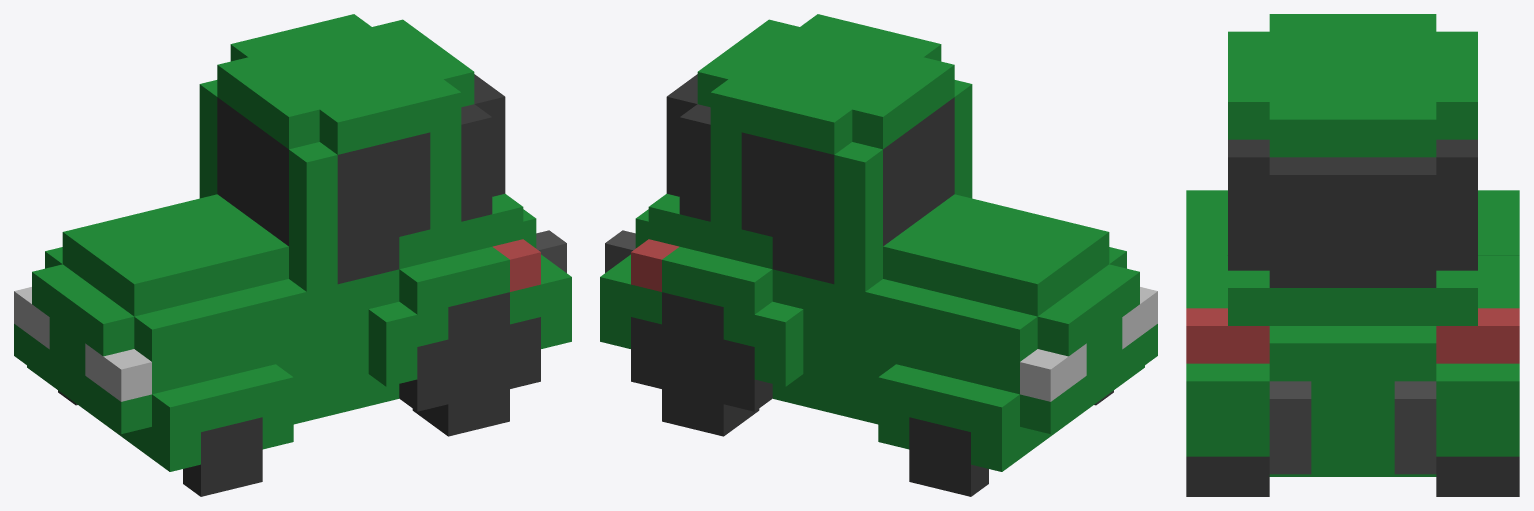
The model's file is tractor-green.gltf.
3 renders of one model, left to right at view 1: azimuth 30°, elevation 25°; view 2: azimuth 150°, elevation 25°; view 3: azimuth 270°, elevation 25°, orthographic. The views are drawn at different scales.
Visible parts, largest first — view 1: model, wheels; view 2: model, wheels; view 3: model, wheels.
Boxes of the visible parts, x1=… form: model: x1=14, y1=14, x2=571, y2=471; wheels: x1=58, y1=292, x2=540, y2=496; model: x1=600, y1=14, x2=1157, y2=471; wheels: x1=631, y1=292, x2=1113, y2=496; model: x1=1186, y1=14, x2=1519, y2=476; wheels: x1=1186, y1=456, x2=1519, y2=496.
Bounding box in the file's own units: 1.5 × 1 × 0.8.
Materials: 2 (2 with a texture image).
